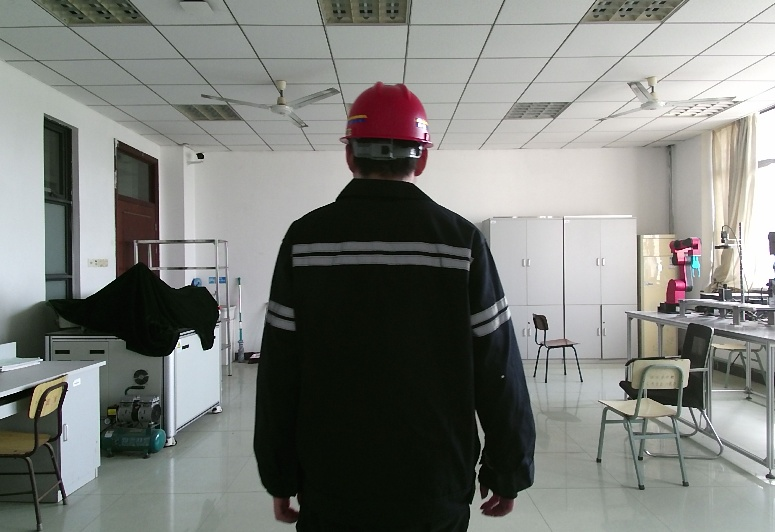person: (4, 4, 264, 264)
